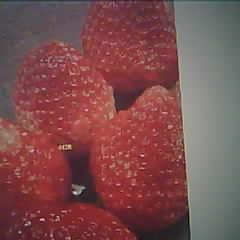straw-ripe: (92, 86, 187, 230), (15, 42, 115, 157), (83, 0, 178, 89)
